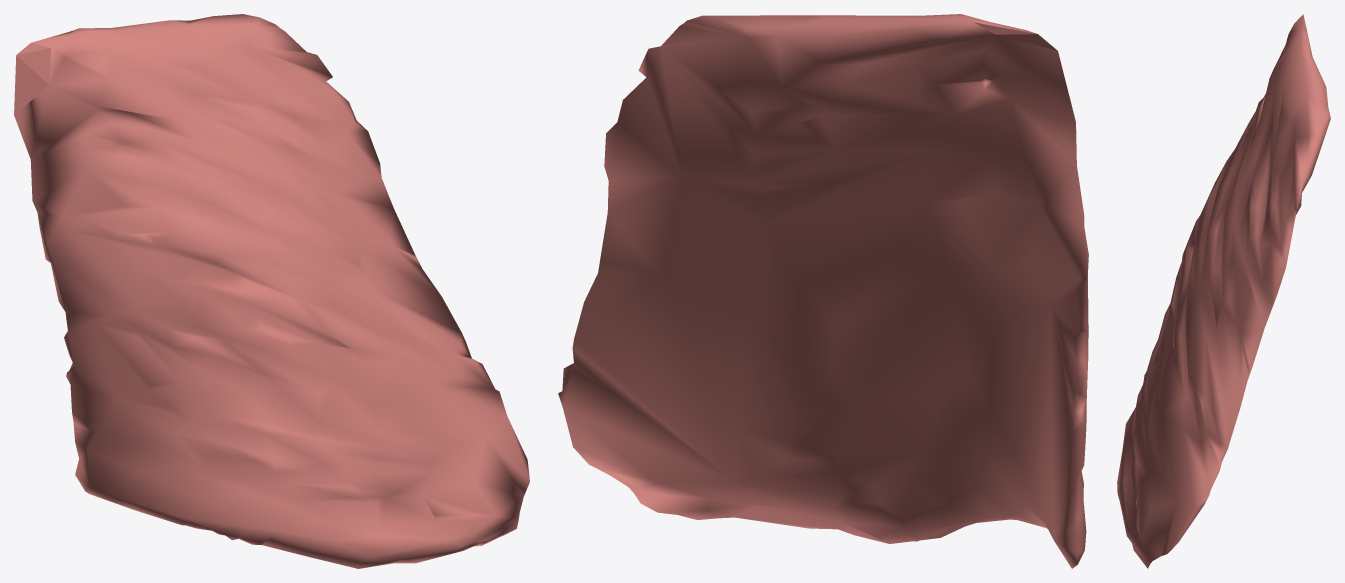
3 renders of one model, left to right at view 1: azimuth 30°, elevation 25°; view 2: azimuth 150°, elevation 25°; view 3: azimuth 270°, elevation 25°, orthographic. The views are drawn at different scales.
Parts seen in each view (by area): view 1: ZA_c1d8ff0cc3b10dc2; view 2: ZA_c1d8ff0cc3b10dc2; view 3: ZA_c1d8ff0cc3b10dc2.
Boxes of the visible parts, x1,y1,x2,y2 form: ZA_c1d8ff0cc3b10dc2: (14, 14, 529, 568); ZA_c1d8ff0cc3b10dc2: (558, 14, 1088, 568); ZA_c1d8ff0cc3b10dc2: (1117, 14, 1330, 568).
Bounding box in the file's own units: 0.0466 × 0.0521 × 0.0247.
